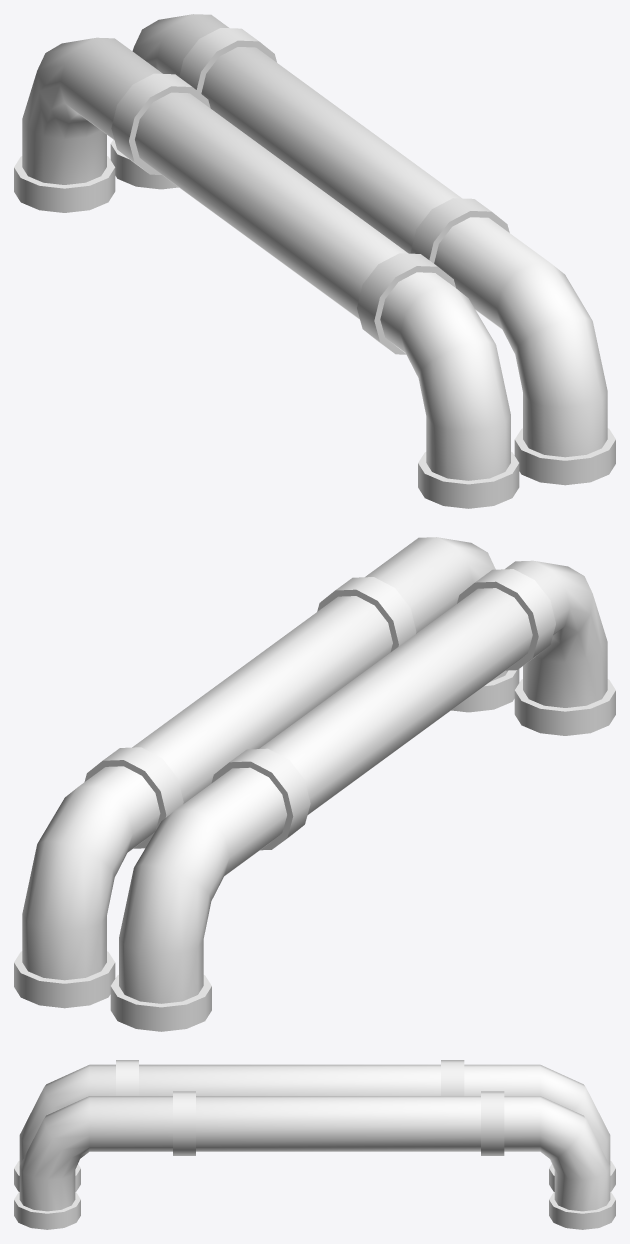
Rendered from Pipes.fbx.
3 renders of one model, top to bottom at view 1: azimuth 30°, elevation 25°; view 2: azimuth 150°, elevation 25°; view 3: azimuth 270°, elevation 25°, orthographic. The views are drawn at different scales.
Visible parts, largest first — view 1: Pipes; view 2: Pipes; view 3: Pipes.
Part boxes in pixels (left/top/right/bottom): Pipes: left=14, top=14, right=615, bottom=508; Pipes: left=14, top=537, right=615, bottom=1031; Pipes: left=14, top=1060, right=615, bottom=1229.
Size of the model in its own units: 0.9991 by 0.9504 by 4.27.
